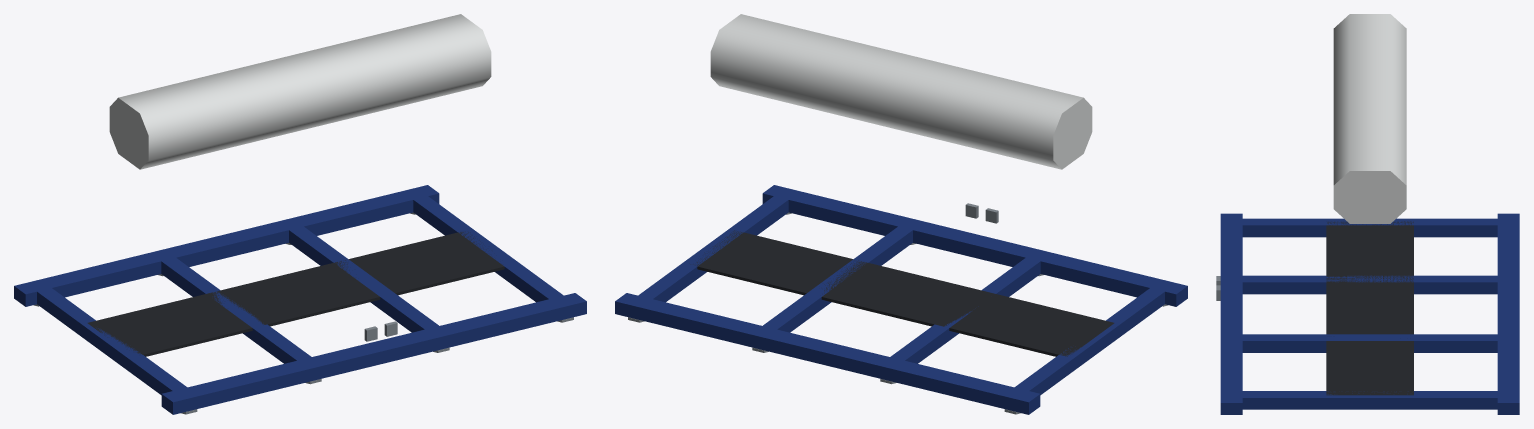
Rendered from l200_frame.obj.
The picture shows the model from 3 angles, left to right: view 1: azimuth 30°, elevation 25°; view 2: azimuth 150°, elevation 25°; view 3: azimuth 270°, elevation 25°; orthographic projection. The views are drawn at different scales.
Visible parts, largest first — view 1: l200_frame; view 2: l200_frame; view 3: l200_frame.
Boxes of the visible parts, x1,y1,x2,y2 form: l200_frame: [14, 14, 586, 414]; l200_frame: [615, 14, 1187, 414]; l200_frame: [1216, 14, 1519, 414].
Bounding box in the file's own units: 6.16 × 3.49 × 4.16.
